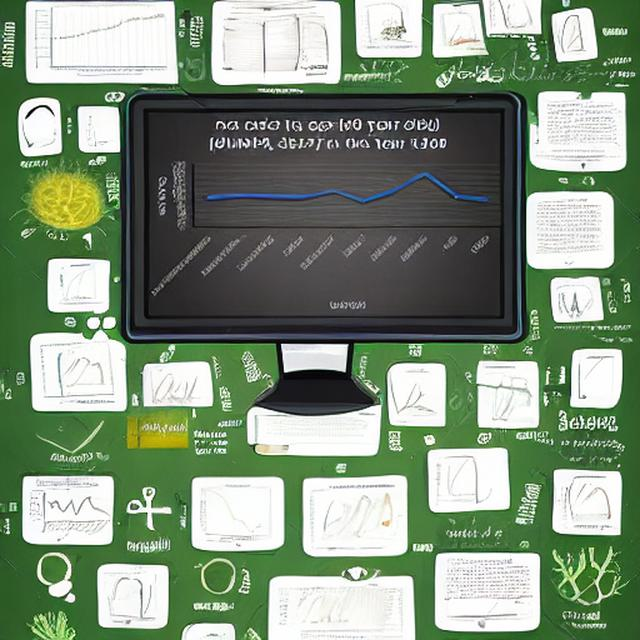Graph: (148, 112, 502, 317), (31, 2, 170, 80), (193, 480, 281, 541), (26, 480, 110, 541), (51, 261, 107, 300)
